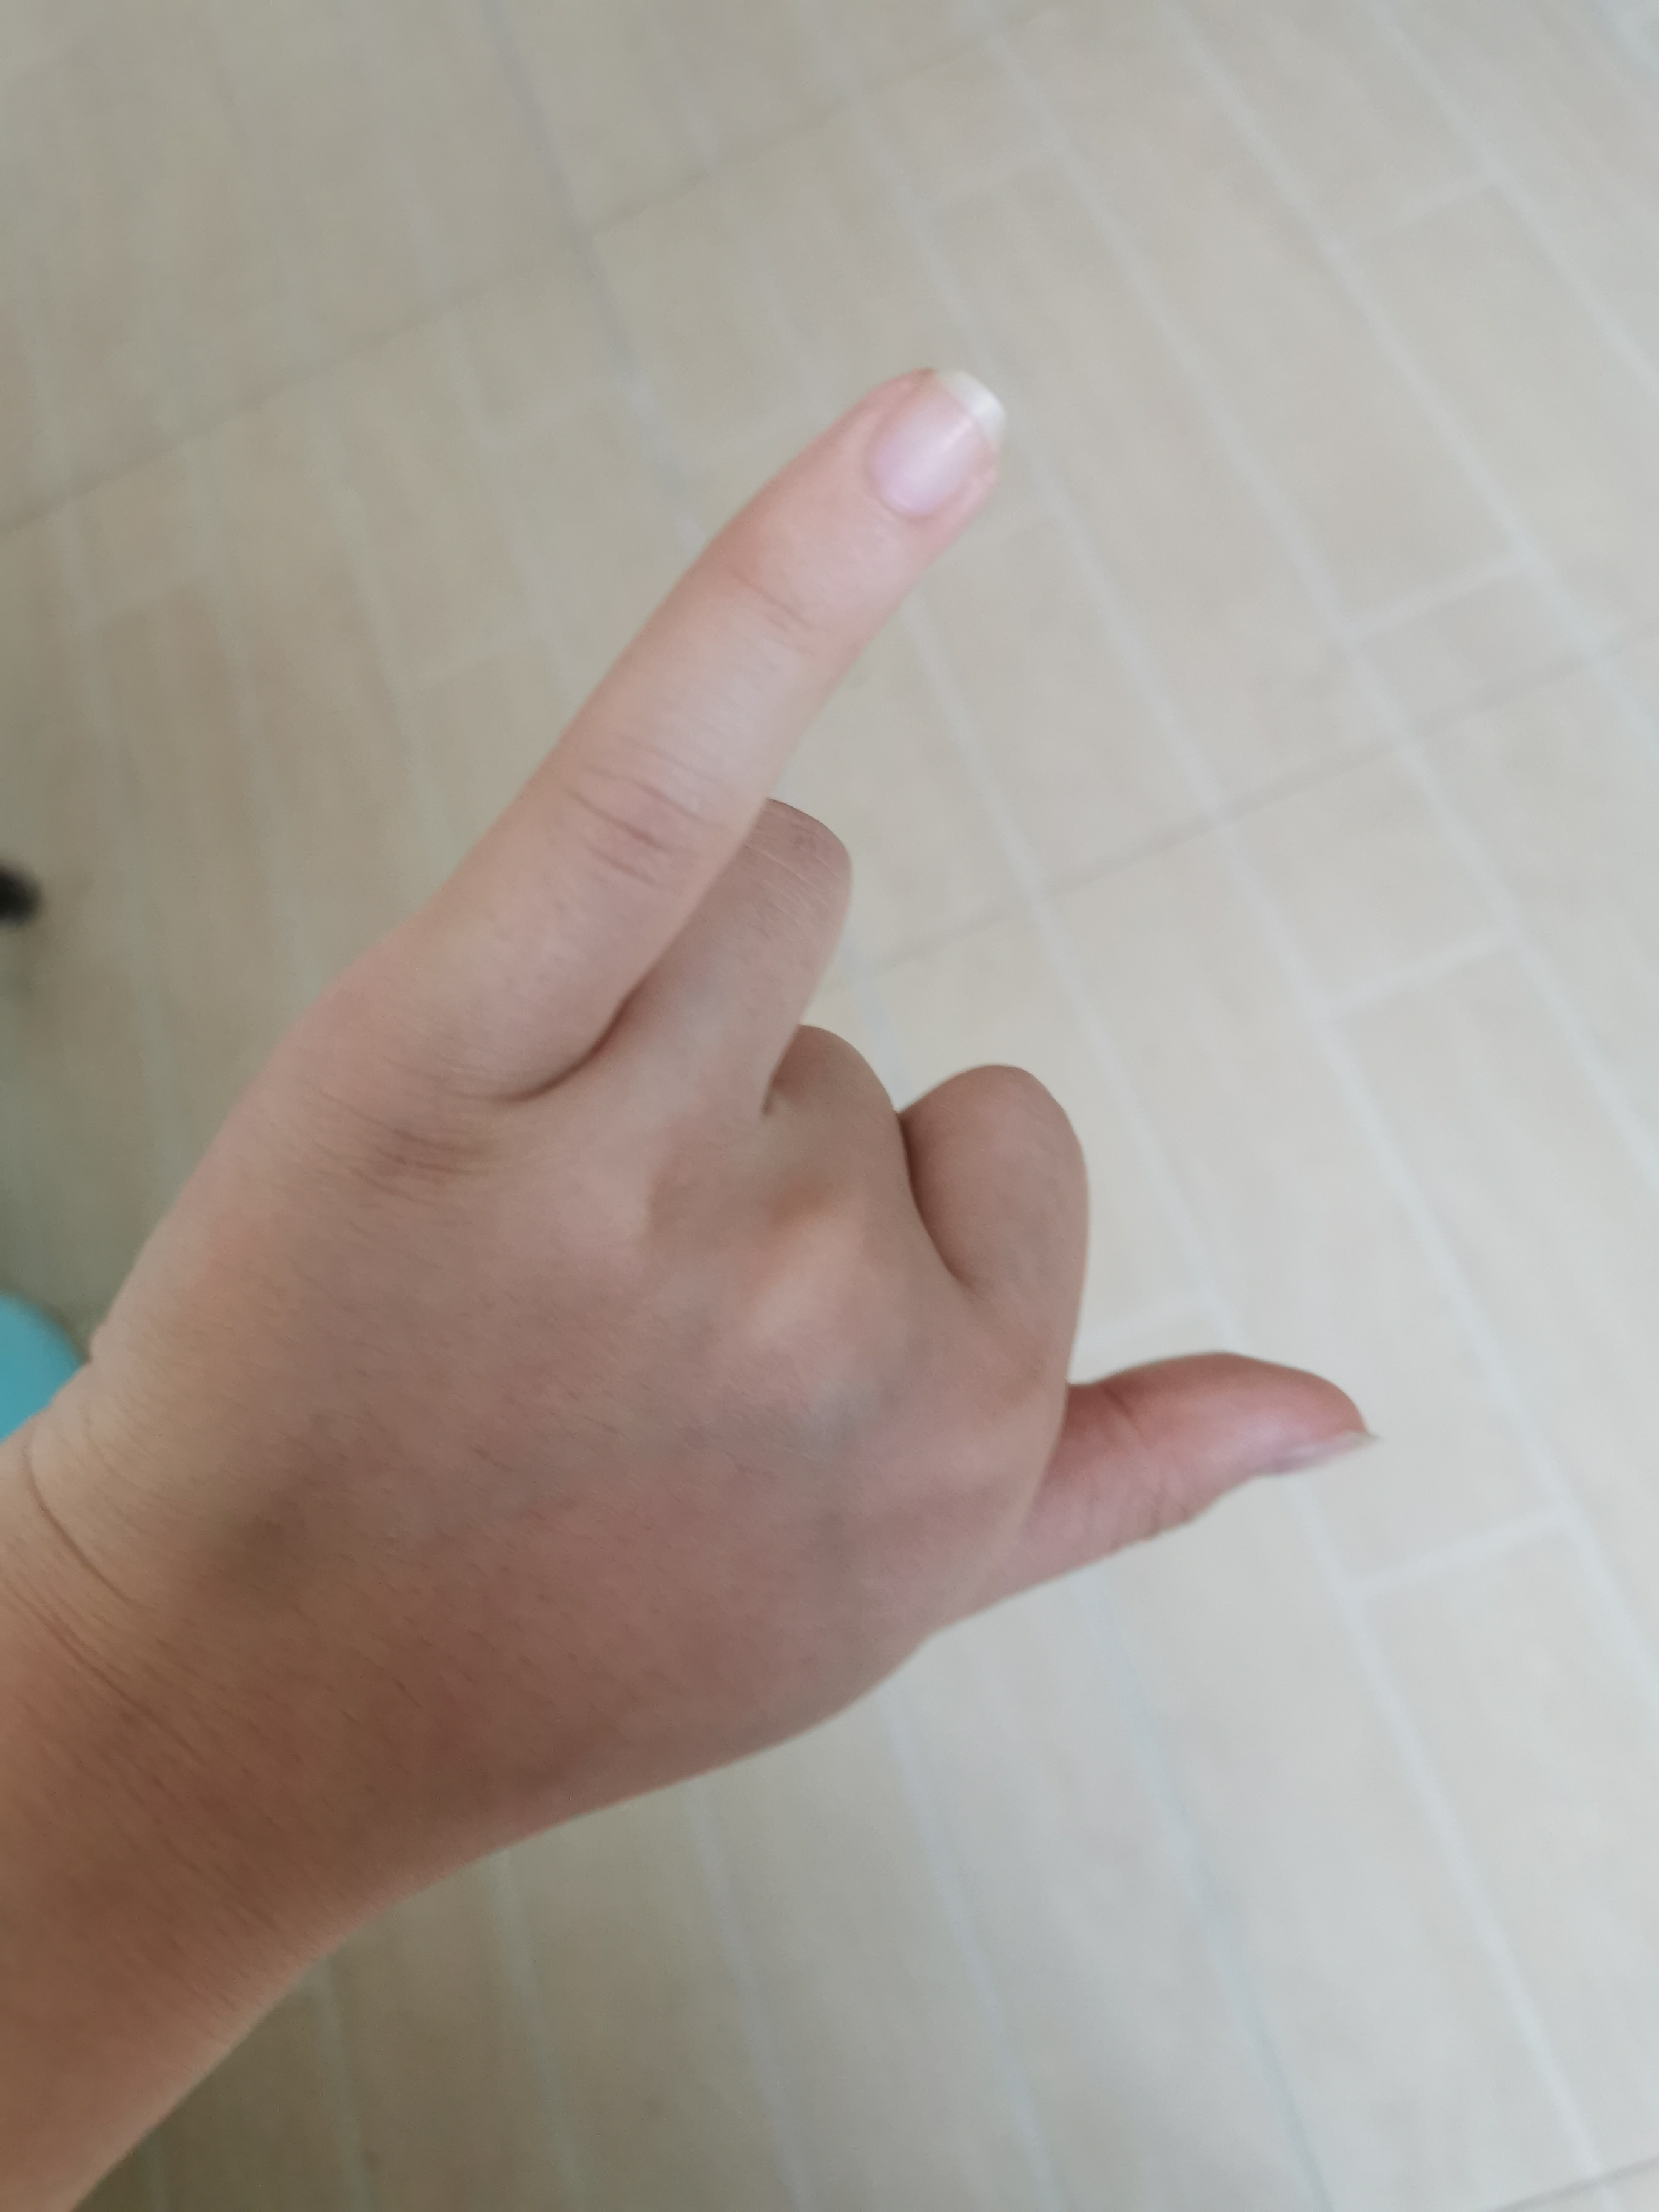clockwise: (94, 352, 1474, 1743)
